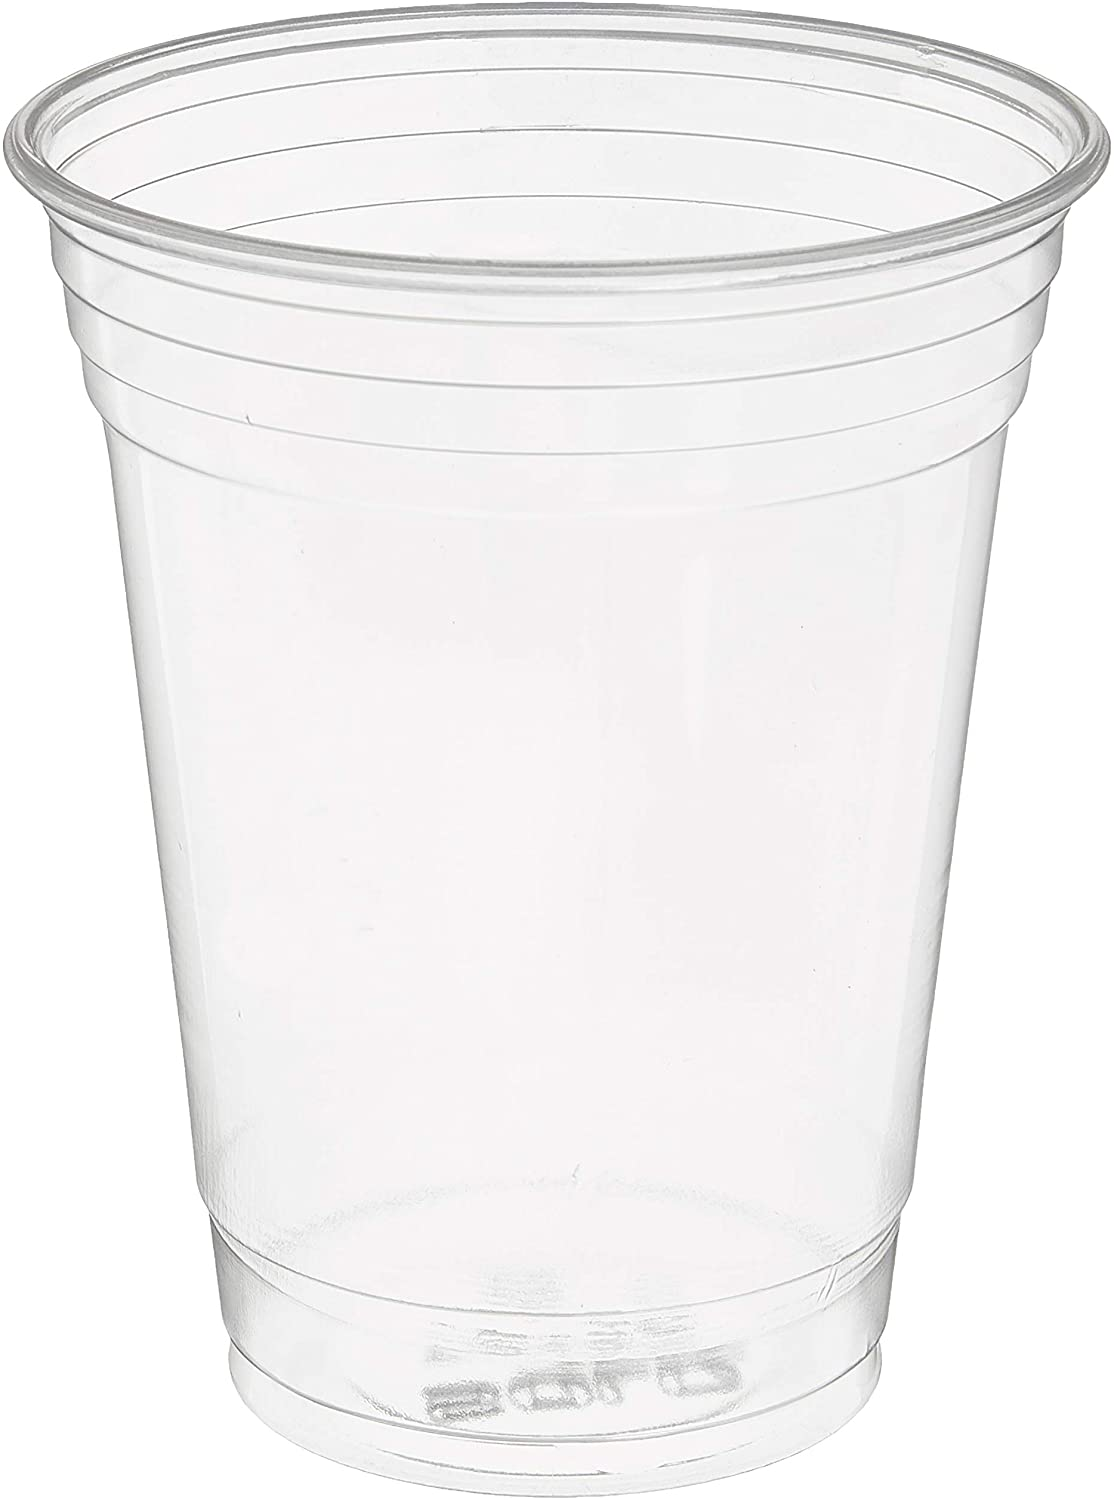plastic_glass: (6, 21, 1114, 1500)
